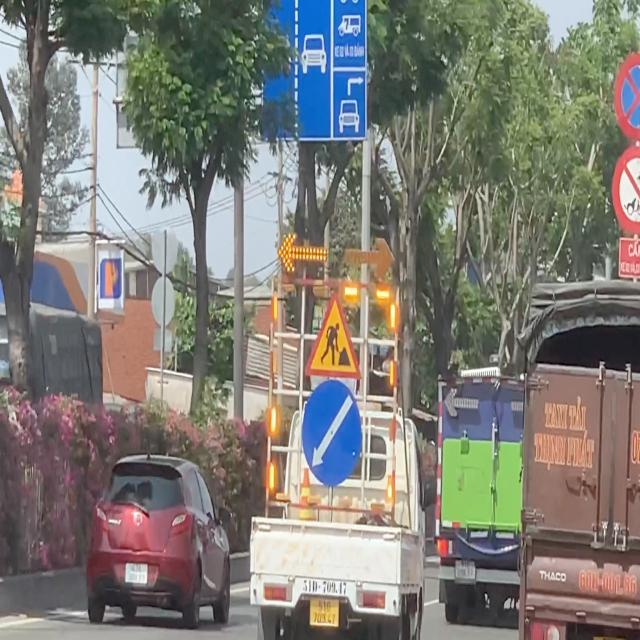Cam con lai: (611, 145, 640, 234)
Cam dung va do: (614, 53, 640, 140)
Hieu lenh: (302, 378, 362, 488)
Nguy hiem: (304, 291, 362, 381)
